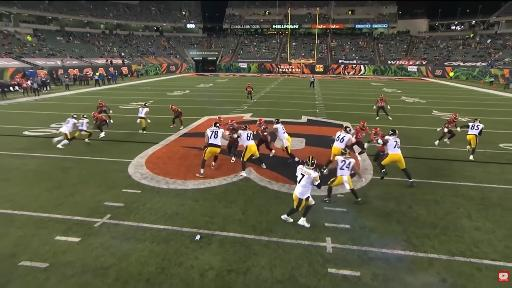Helmet: (304, 156, 315, 169), (343, 126, 352, 134), (342, 148, 350, 156), (389, 130, 398, 136), (360, 121, 367, 128), (212, 122, 220, 128), (217, 116, 223, 123), (274, 119, 281, 125), (257, 119, 264, 125), (372, 128, 380, 133), (452, 114, 458, 120), (228, 120, 235, 125), (242, 125, 249, 130), (92, 112, 98, 117), (71, 115, 77, 119), (473, 119, 480, 122), (143, 103, 148, 107), (247, 82, 251, 86), (170, 105, 174, 109), (82, 115, 87, 118), (99, 100, 102, 104), (380, 95, 383, 98)
Jersey: (295, 166, 320, 198), (335, 157, 355, 176), (206, 127, 224, 147), (385, 136, 401, 154), (334, 132, 352, 148), (238, 131, 255, 146), (354, 126, 369, 141), (274, 124, 288, 140), (61, 119, 77, 133), (227, 126, 238, 143), (468, 123, 483, 135), (258, 124, 269, 140), (77, 119, 89, 131), (138, 107, 149, 119), (371, 133, 385, 142), (444, 119, 456, 128), (95, 115, 107, 123), (377, 98, 386, 106), (174, 109, 182, 116), (97, 103, 106, 109), (246, 87, 253, 92), (246, 86, 253, 91)
Player: (282, 156, 321, 227), (324, 148, 364, 202), (378, 130, 415, 186), (197, 122, 227, 177), (236, 125, 265, 176), (323, 126, 354, 173), (269, 119, 299, 162), (52, 115, 77, 148), (435, 114, 460, 145), (350, 121, 369, 159), (256, 119, 274, 156), (366, 128, 385, 162), (467, 119, 483, 159), (226, 120, 239, 162), (75, 115, 92, 142), (374, 95, 391, 119), (137, 103, 150, 134), (92, 112, 108, 137), (97, 101, 113, 122), (170, 105, 183, 129), (246, 83, 253, 101), (217, 117, 223, 128)
